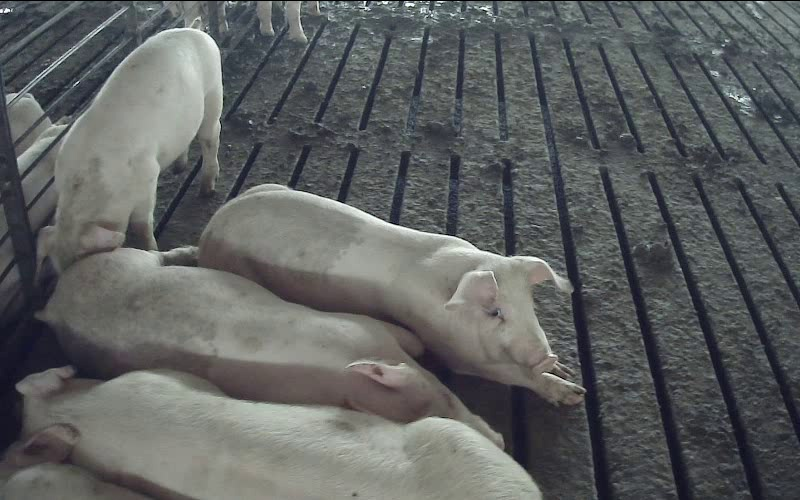pig: (39, 248, 502, 445), (199, 184, 583, 404), (18, 367, 540, 499), (39, 28, 222, 271)
